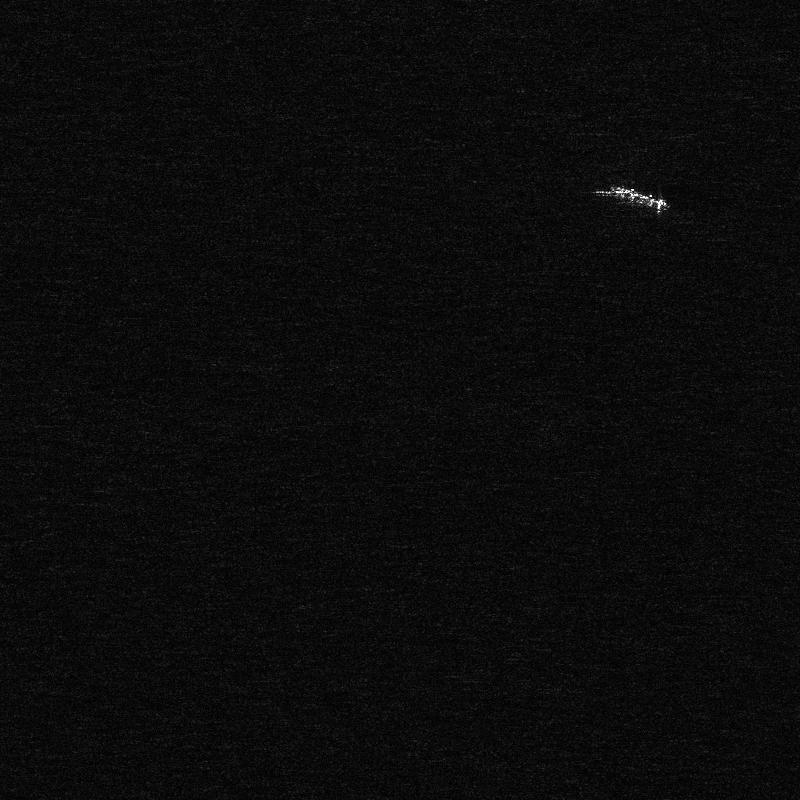ship: (611, 186, 667, 209)
